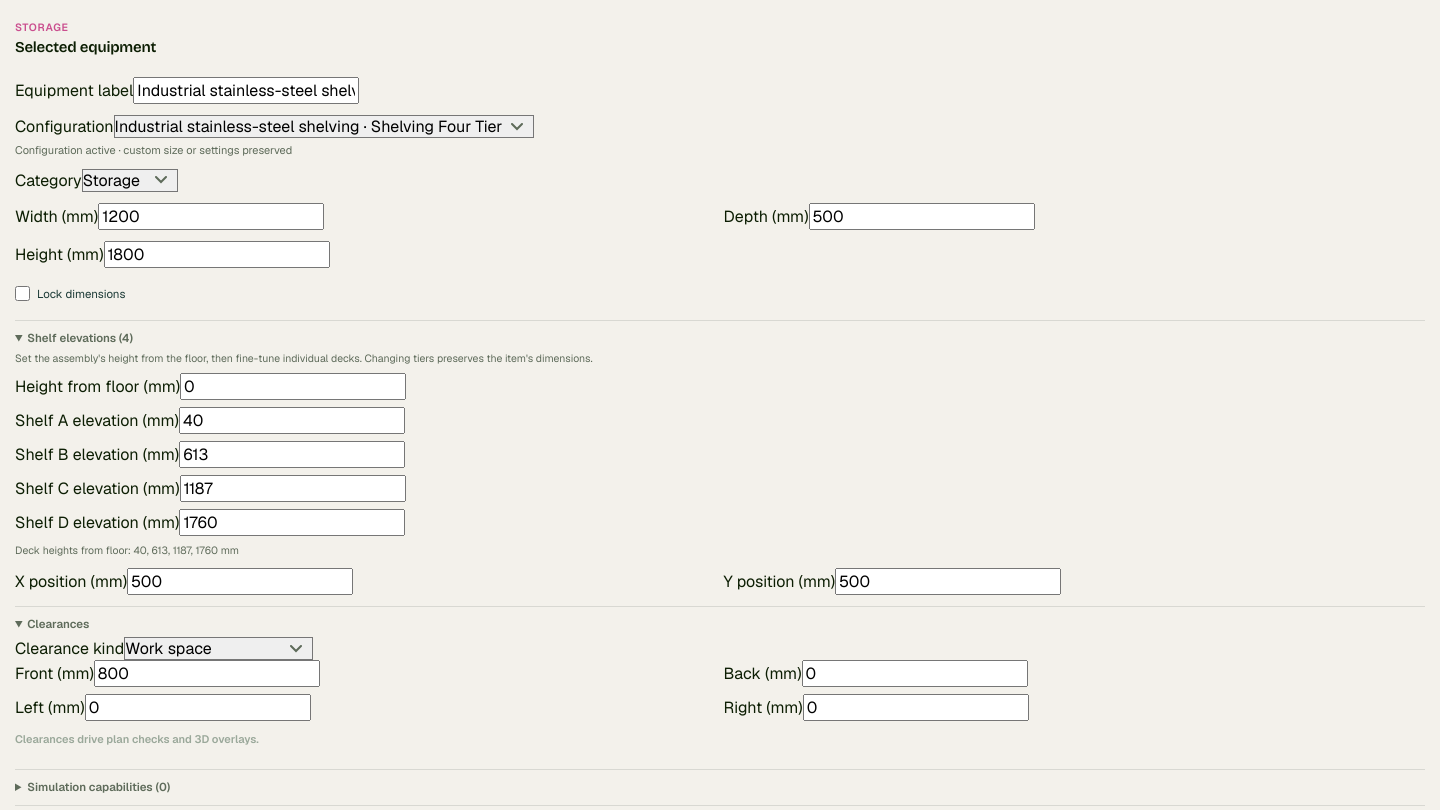
Test case: keeps edited tiers ordered and visibly snaps an overlapping shelf above its neighbor
The width and height of the screenshot is (1440, 810).
Replace the text in the field labelled "Shelf C elevation (mm)" with "100": (292, 488) [180, 474, 406, 502]
Then press Enter
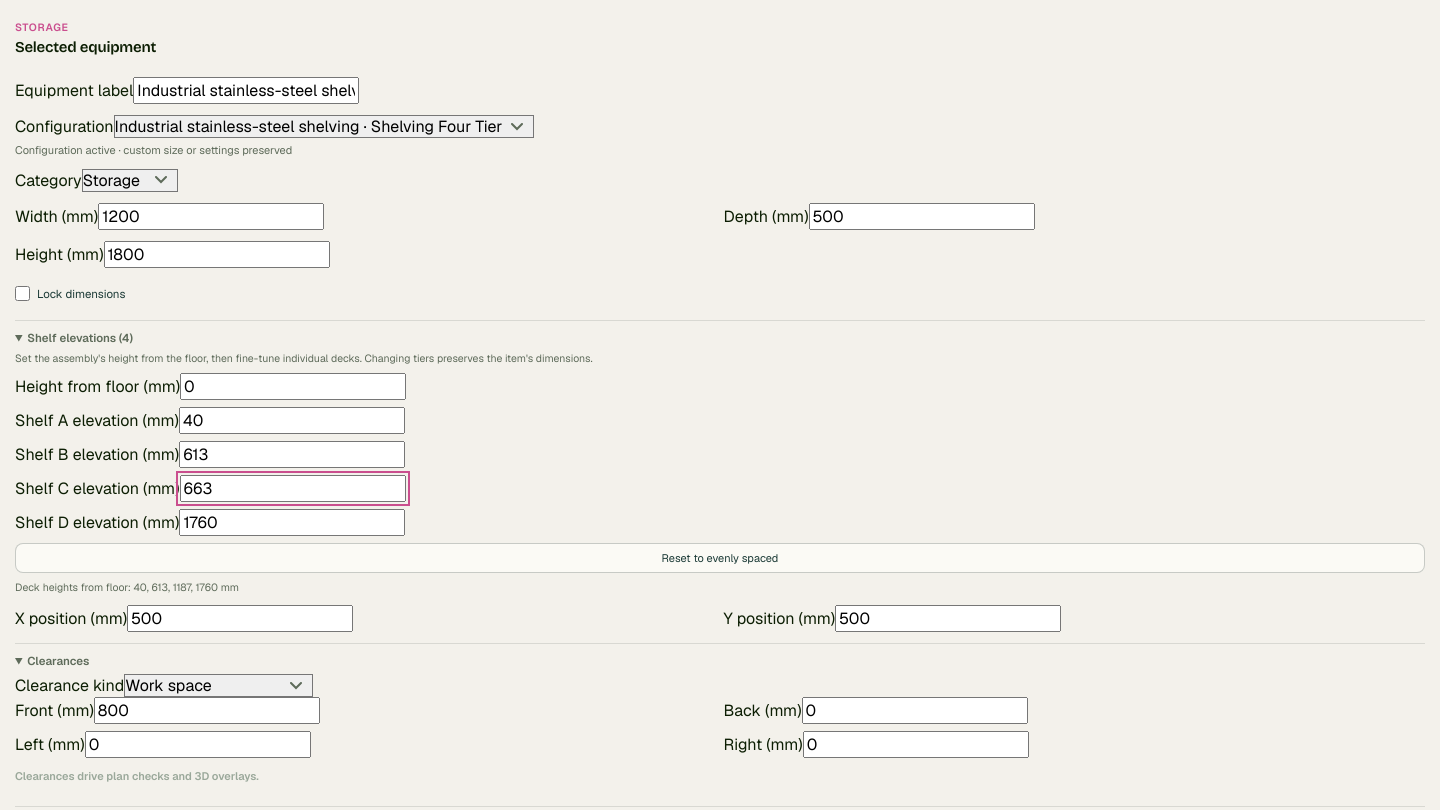
Expected: the field labelled "Shelf C elevation (mm)" holds "663", [180, 474, 406, 502]
